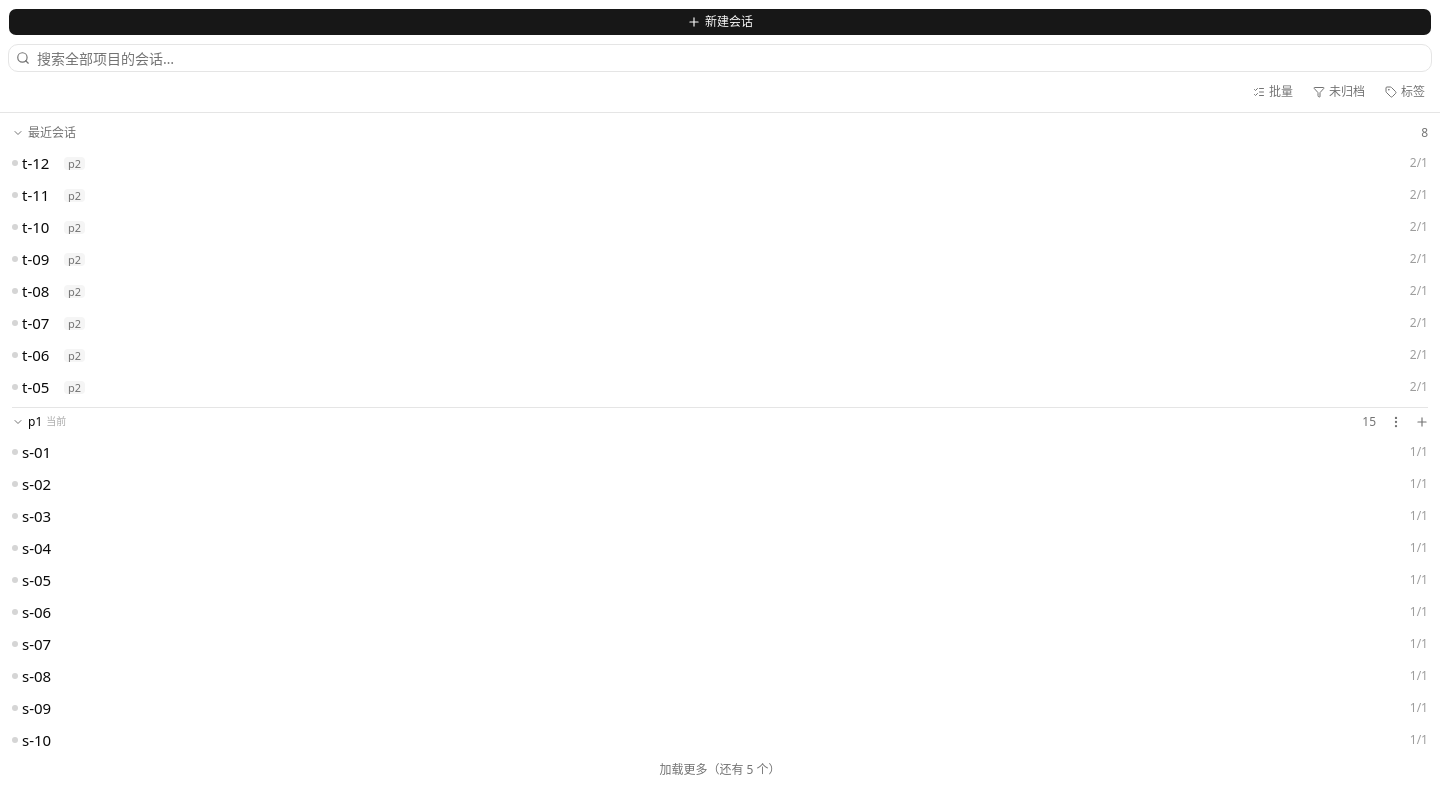
Test case: 项目组加载更多（r9 wave1） › 断言 3a：批量管理模式全量不截断，无加载更多按钮
Click the button with test id "batch-toggle".
click(1273, 92)  # box [1246,80,1300,104]
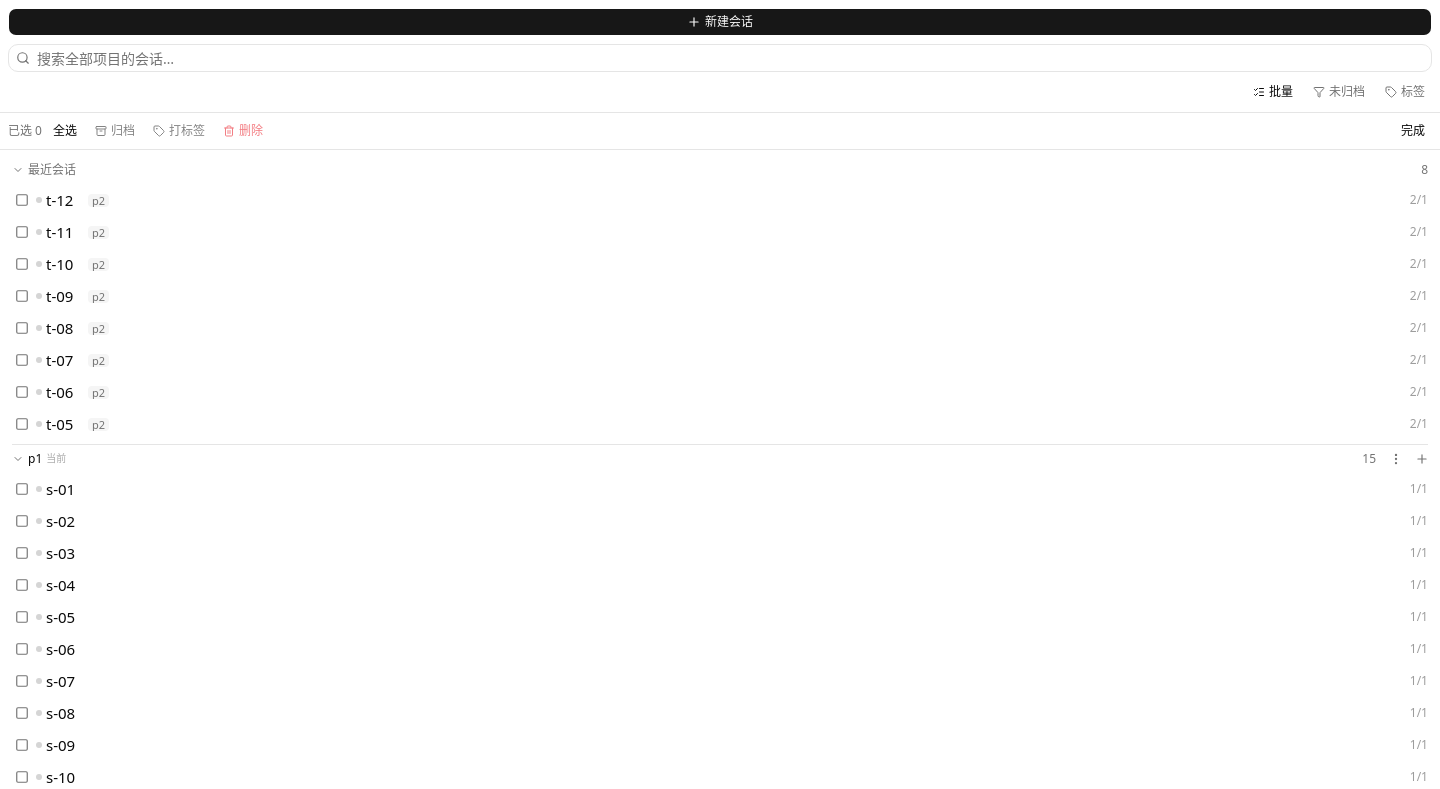
expect the element with test id "batch-bar" is shown: met, box [0,113,1439,150]
